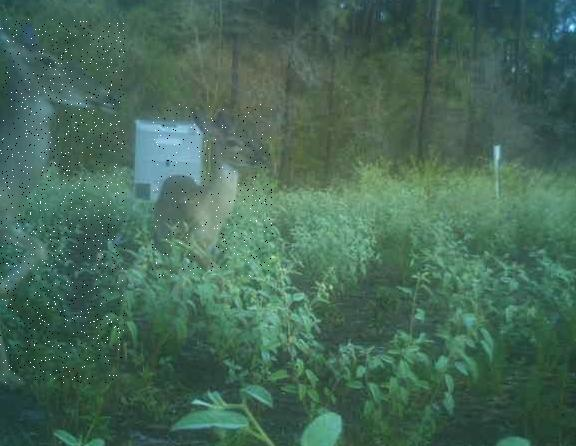Deer: (0, 19, 125, 384), (153, 104, 274, 278)
